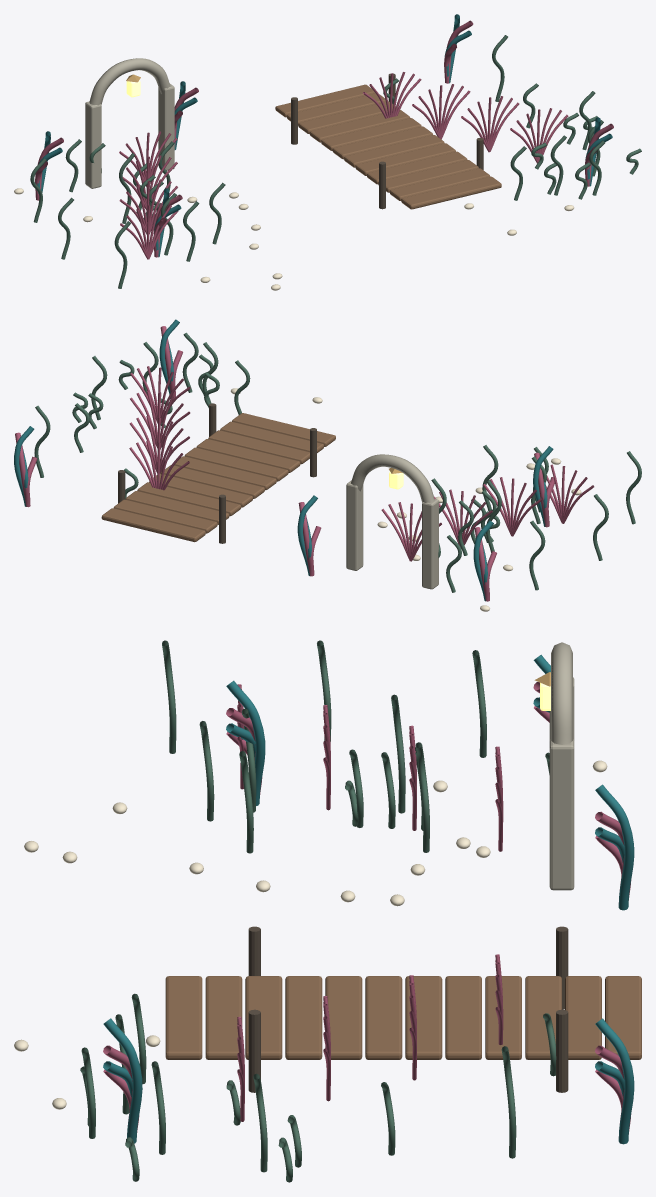
The model's file is mer_pier-CZ0xRkhG.glb.
3 views of the same model, one above another, from view 1: azimuth 30°, elevation 25°; view 2: azimuth 150°, elevation 25°; view 3: azimuth 270°, elevation 25° (orthographic). The views are drawn at different scales.
Visible parts, largest first — view 1: world_wood.002, world_rose.002, world_leafdark.002, world_stone.002, world_Story primary.002, world_darkwood.002, world_cream.002; view 2: world_wood.002, world_rose.002, world_leafdark.002, world_stone.002, world_Story primary.002, world_darkwood.002, world_cream.002; view 3: world_wood.002, world_leafdark.002, world_rose.002, world_Story primary.002, world_stone.002, world_darkwood.002, world_cream.002.
Boxes of the visible parts, x1,y1,x2,y2 form: world_wood.002: (275,84,501,209); world_rose.002: (35,20,613,259); world_leafdark.002: (30,35,641,288); world_stone.002: (85,58,174,188); world_Story primary.002: (37,14,612,257); world_darkwood.002: (291,73,483,209); world_cream.002: (14,188,574,290); world_wood.002: (101,413,335,542); world_rose.002: (15,326,594,601); world_leafdark.002: (34,332,641,592); world_stone.002: (346,454,438,589); world_Story primary.002: (14,319,553,601); world_darkwood.002: (118,403,316,543); world_cream.002: (230,388,581,611); world_wood.002: (165,976,641,1059); world_leafdark.002: (80,640,556,1182); world_rose.002: (103,682,631,1134); world_Story primary.002: (103,654,634,1144); world_stone.002: (549,642,574,890); world_darkwood.002: (248,926,568,1092); world_cream.002: (14,760,607,1109).
Size of what is drawn, in the model's own units: 17.35 by 3.88 by 10.22.
